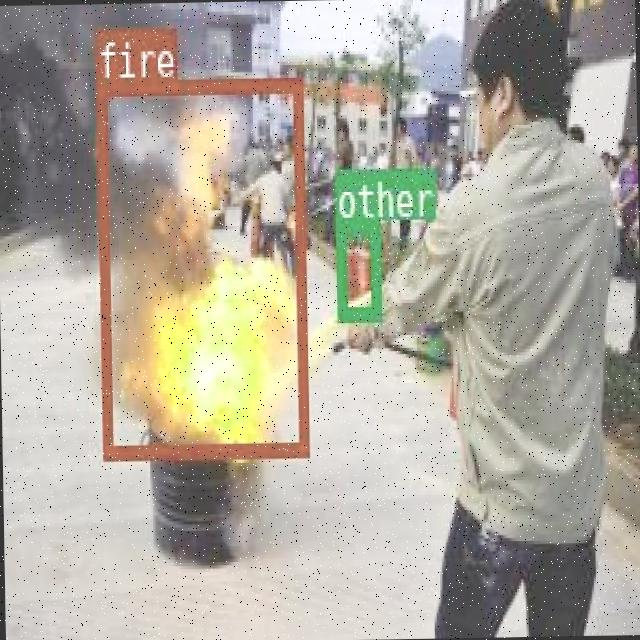fire: (95, 76, 306, 457)
